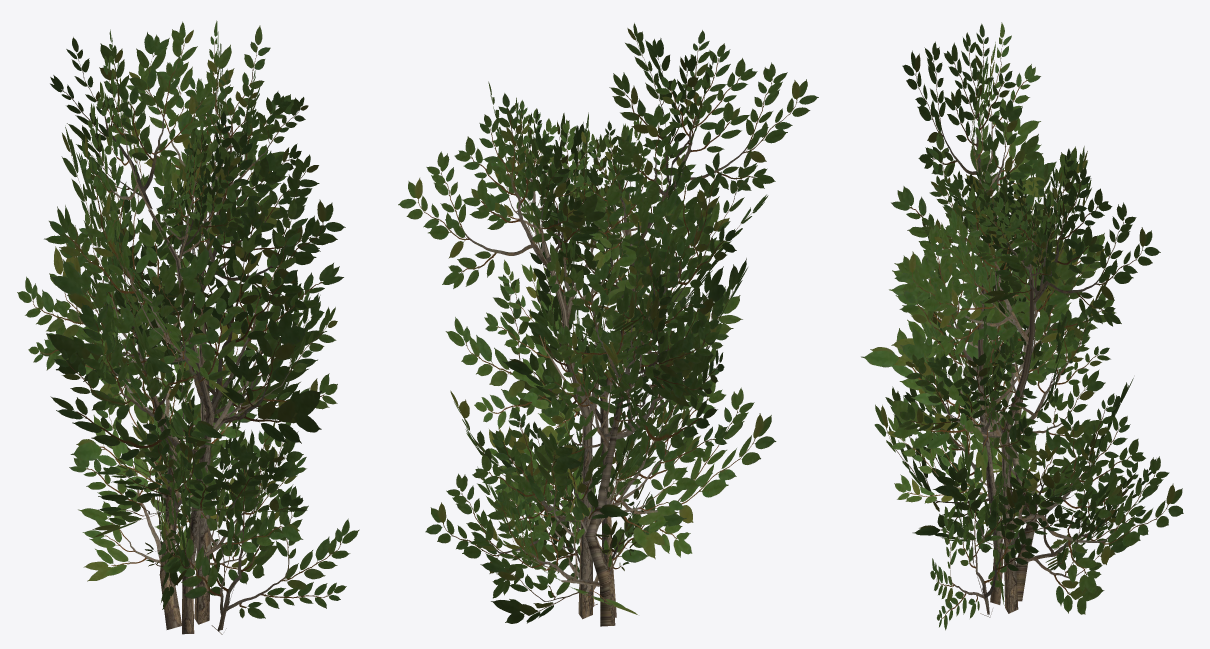
The model's file is bush.glb.
The picture shows the model from 3 angles, left to right: view 1: azimuth 30°, elevation 25°; view 2: azimuth 150°, elevation 25°; view 3: azimuth 270°, elevation 25°; orthographic projection. The views are drawn at different scales.
Parts seen in each view (by area): view 1: LOD0; view 2: LOD0; view 3: LOD0.
Part boxes in pixels (x1=…): LOD0: x1=17, y1=20, x2=359, y2=634; LOD0: x1=398, y1=23, x2=818, y2=626; LOD0: x1=861, y1=22, x2=1183, y2=630.
Size of what is drawn, in the model's own units: 0.5497 by 1.03 by 0.5816.
Materials: 2 (2 with a texture image).
